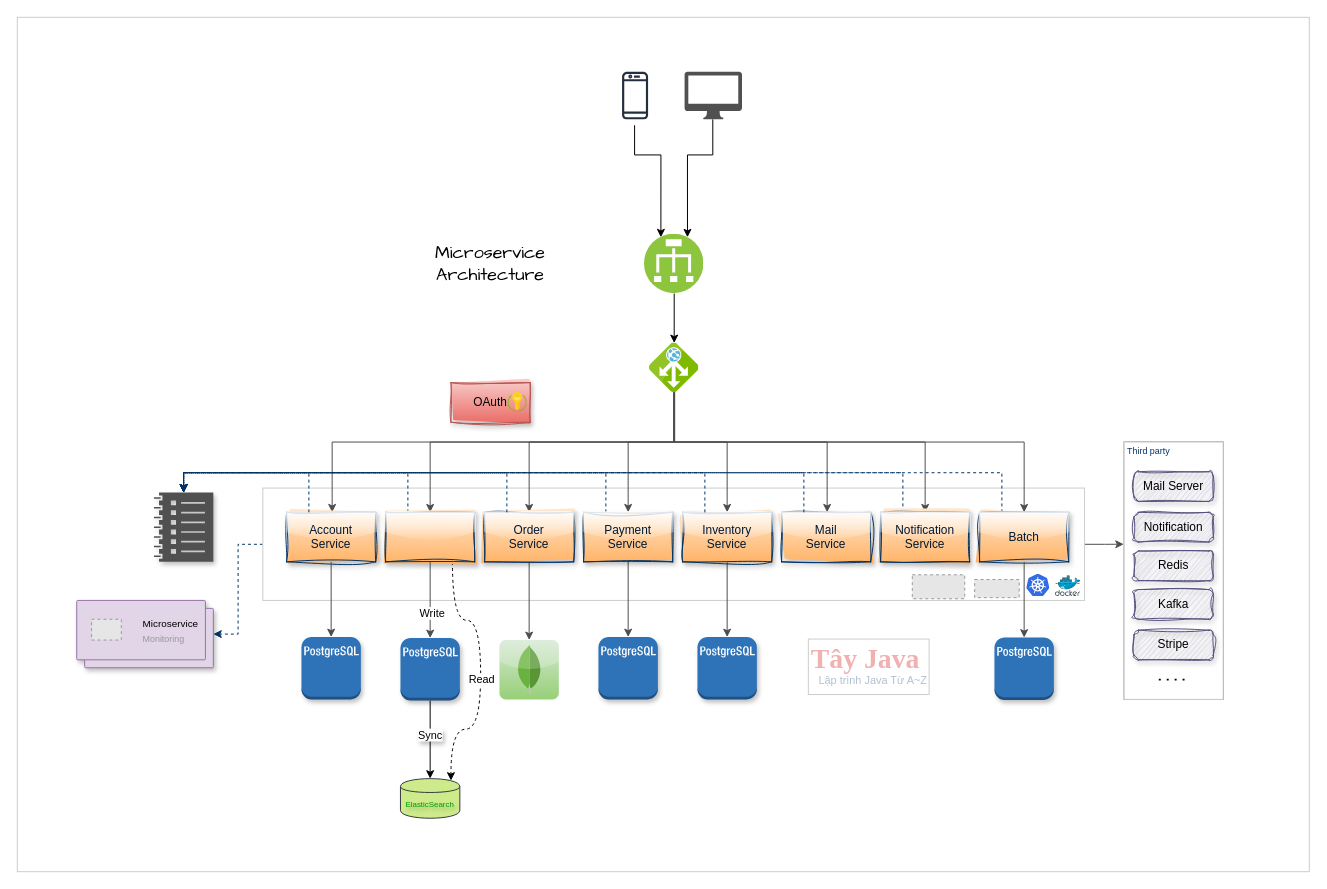
Image size: 1327x889. Some labels were removed from this diagram. Grey dashed boxes stand in for pictures. The centre of each missing label's shape, as x and y in pixels:
"API-Gateway" belongs at pixel 673 367.
"Computer" belongs at pixel 713 95.
"Log Management" belongs at pixel 184 528.
"Mobile" belongs at pixel 634 95.
"MongoDb" belongs at pixel 528 669.
"Product Service" belongs at pixel 431 538.
